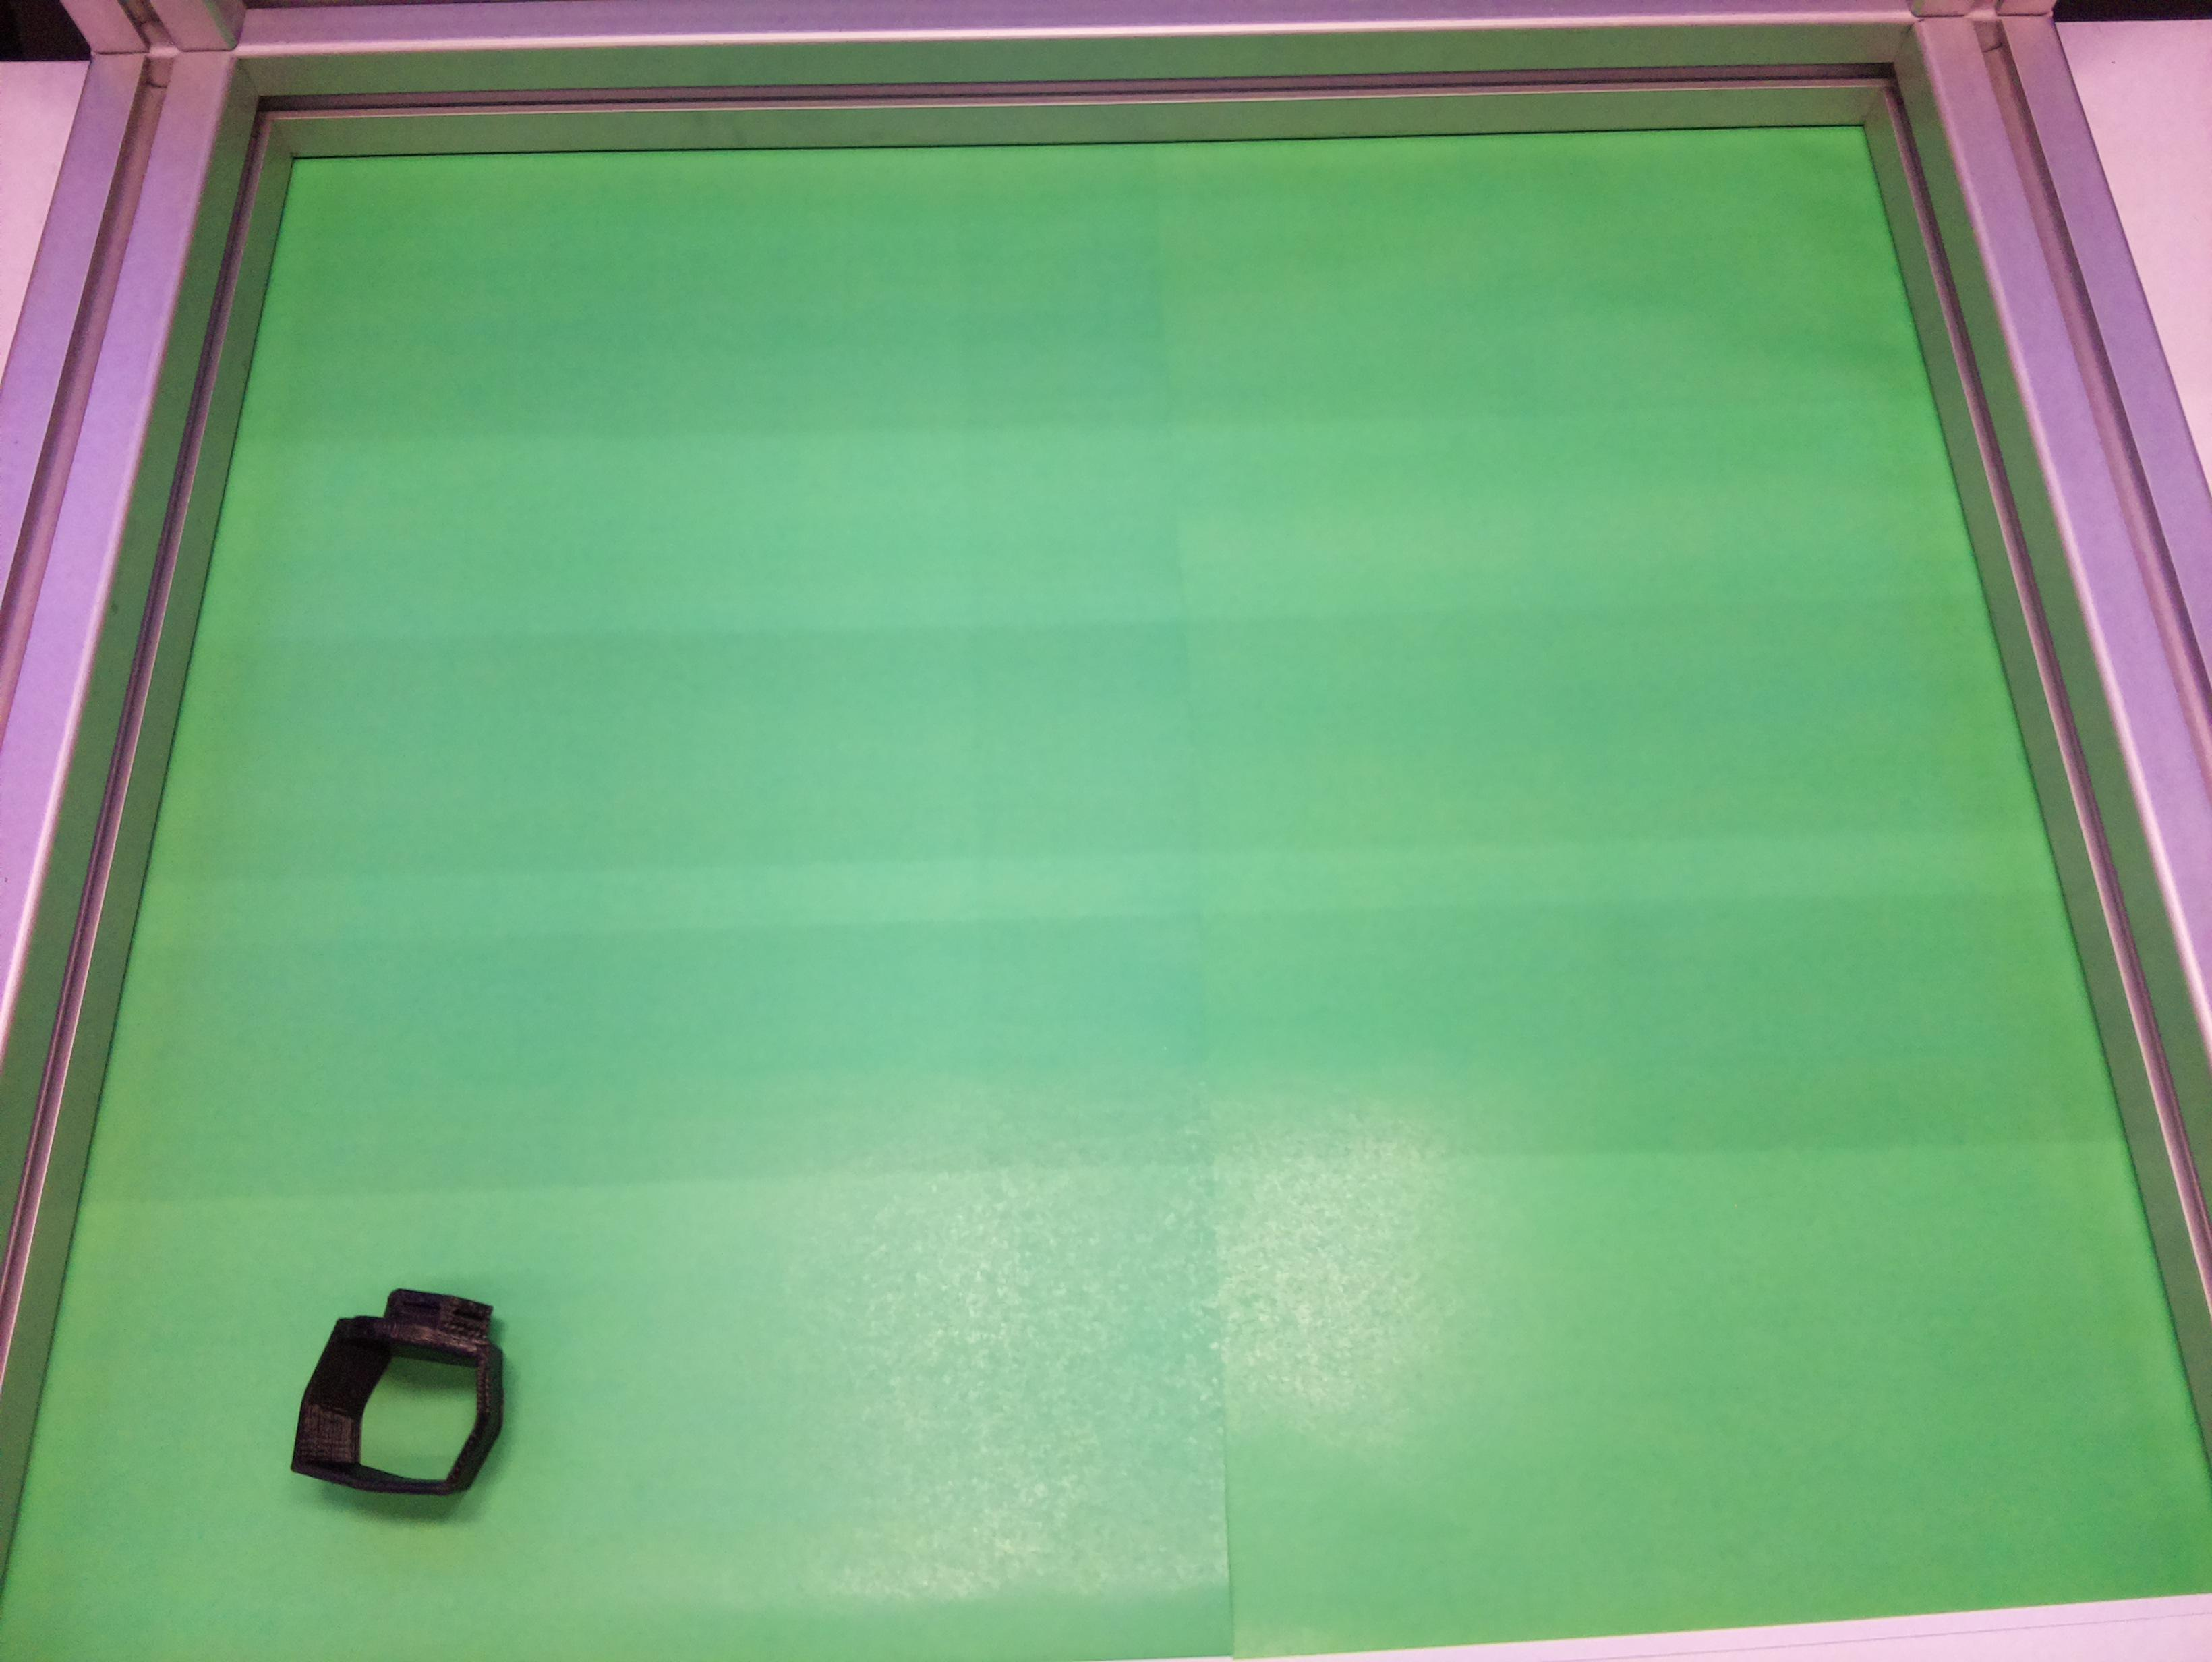scissor_holder: (290, 1283, 513, 1503)
